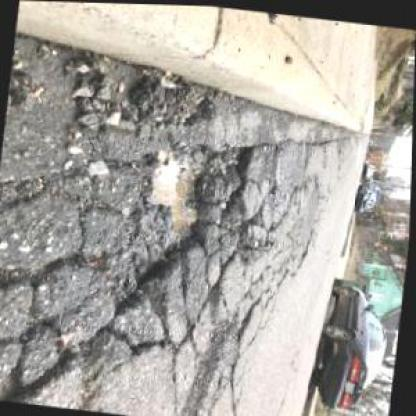pothole: (104, 126, 257, 327)
